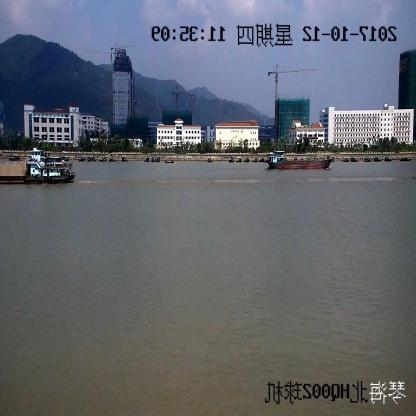Bulk Carrier: (268, 150, 332, 171)
